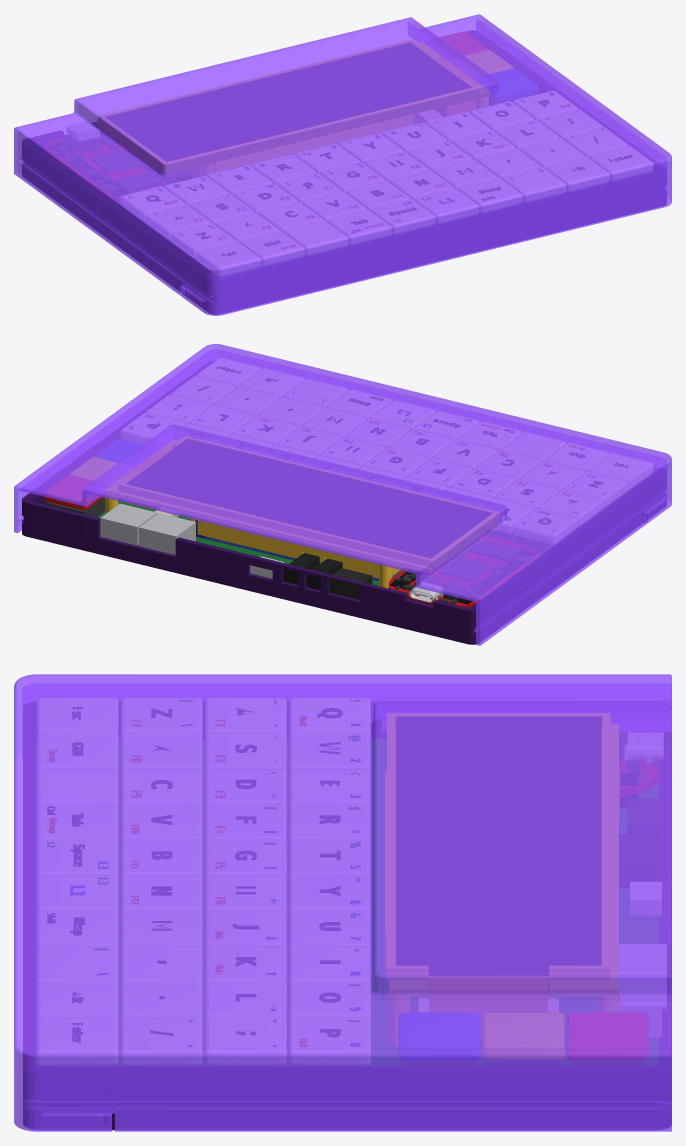
Rendered from cover_grape.glb.
3 views of the same model, one above another, from view 1: azimuth 30°, elevation 25°; view 2: azimuth 150°, elevation 25°; view 3: azimuth 270°, elevation 25° (orthographic). The views are drawn at different scales.
Parts seen in each view (by area): view 1: Lid, Internals, Tray; view 2: Lid, Internals, Tray; view 3: Lid, Internals, Tray.
Part boxes in pixels (bbox=[...]): Lid: bbox=[14, 14, 671, 315]; Internals: bbox=[45, 32, 652, 276]; Tray: bbox=[22, 31, 665, 314]; Lid: bbox=[14, 344, 671, 645]; Internals: bbox=[44, 358, 652, 607]; Tray: bbox=[22, 361, 665, 644]; Lid: bbox=[14, 674, 671, 1131]; Internals: bbox=[36, 698, 666, 1065]; Tray: bbox=[23, 702, 671, 1130].
Size of the model in its own units: 0.1818 by 0.0232 by 0.133.
